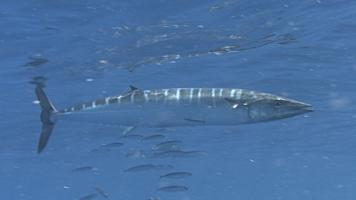Scombridae -Tunas-: (27, 82, 315, 156)
